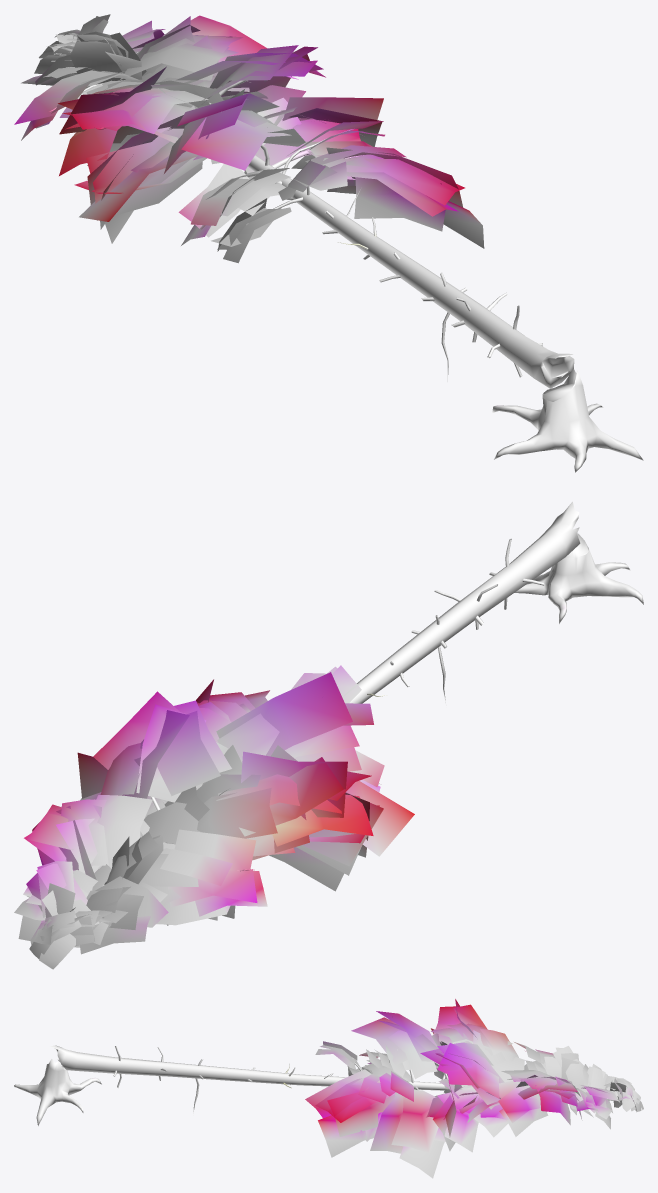
File: arden_forest_pine_big_broken_01.fbx
3 views of the same model, one above another, from view 1: azimuth 30°, elevation 25°; view 2: azimuth 150°, elevation 25°; view 3: azimuth 270°, elevation 25° (orthographic). The views are drawn at different scales.
Visible parts, largest first — view 1: arden_forest_pine_big_broken_01; view 2: arden_forest_pine_big_broken_01; view 3: arden_forest_pine_big_broken_01.
Part boxes in pixels (<box>): arden_forest_pine_big_broken_01: <box>14,14,643,472</box>; arden_forest_pine_big_broken_01: <box>14,501,643,969</box>; arden_forest_pine_big_broken_01: <box>14,999,643,1178</box>.
Bounding box in the file's own units: 4.76 × 13.69 × 2.58.
